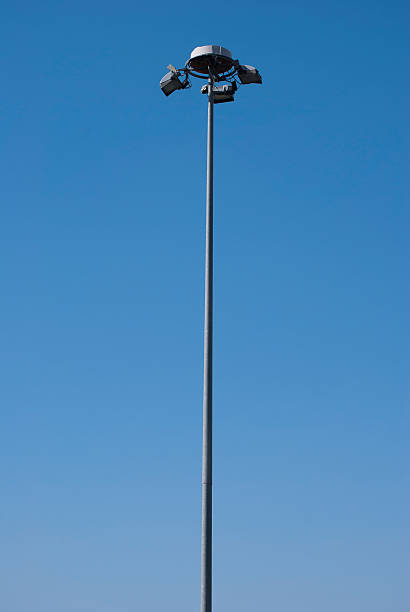light_pole: (198, 121, 218, 612)
